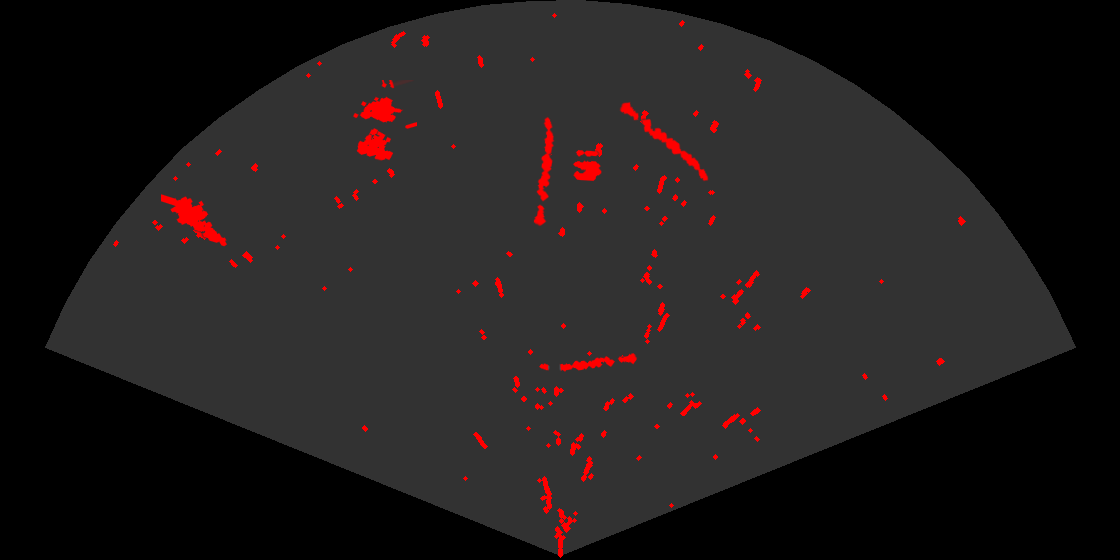ball: (571, 148, 603, 183)
cage: (352, 80, 417, 162)
chain: (618, 100, 710, 183), (532, 115, 556, 229), (538, 352, 640, 373)
frogman: (161, 193, 228, 248)
